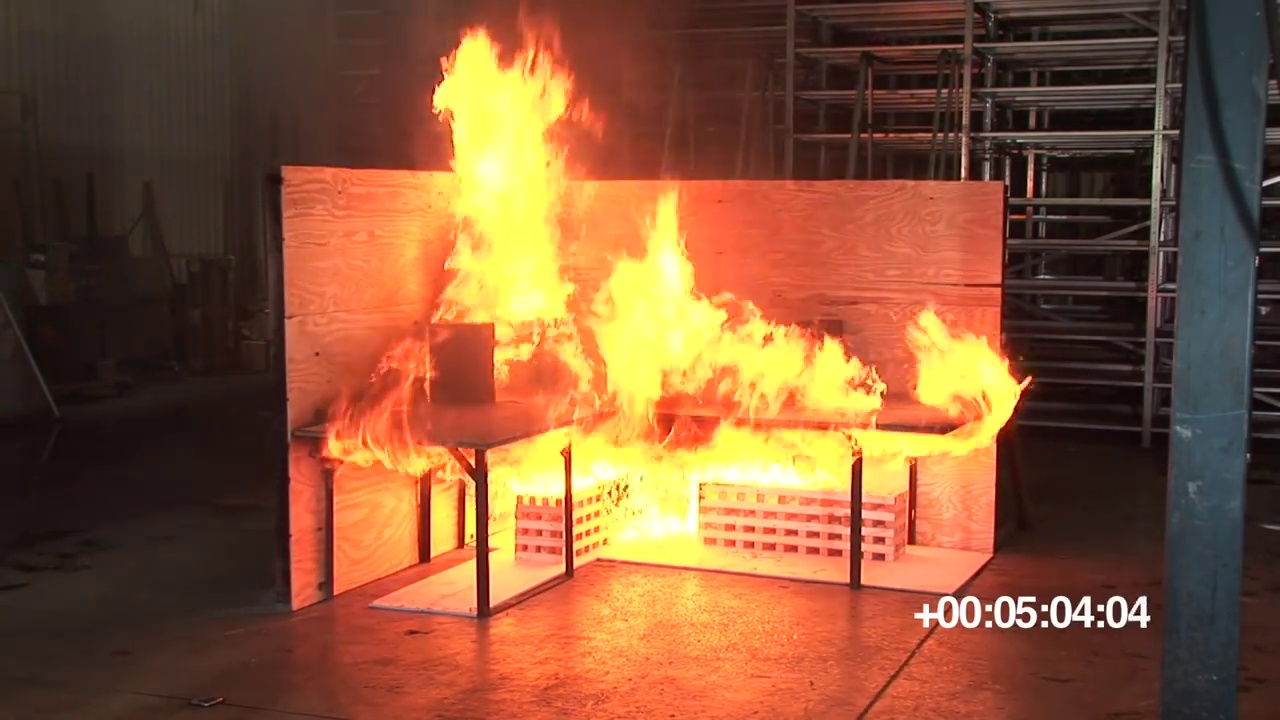fire: (435, 22, 603, 404), (608, 194, 728, 407), (495, 430, 903, 486), (905, 308, 1022, 448), (723, 311, 877, 412), (323, 341, 423, 464)
